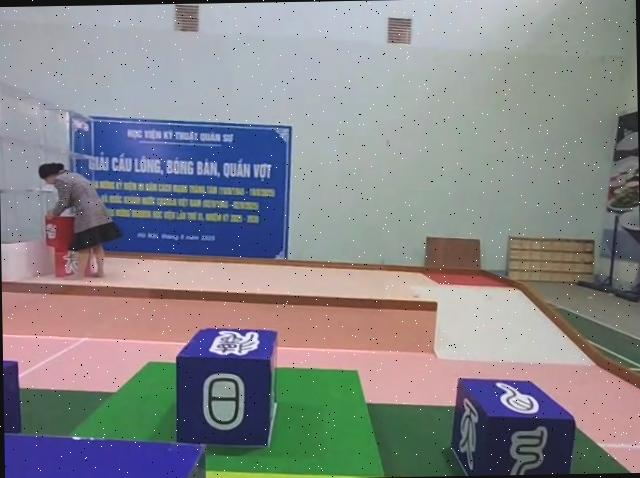R2 Fake Blue: (171, 329, 280, 454), (448, 378, 576, 476), (2, 358, 19, 440)
